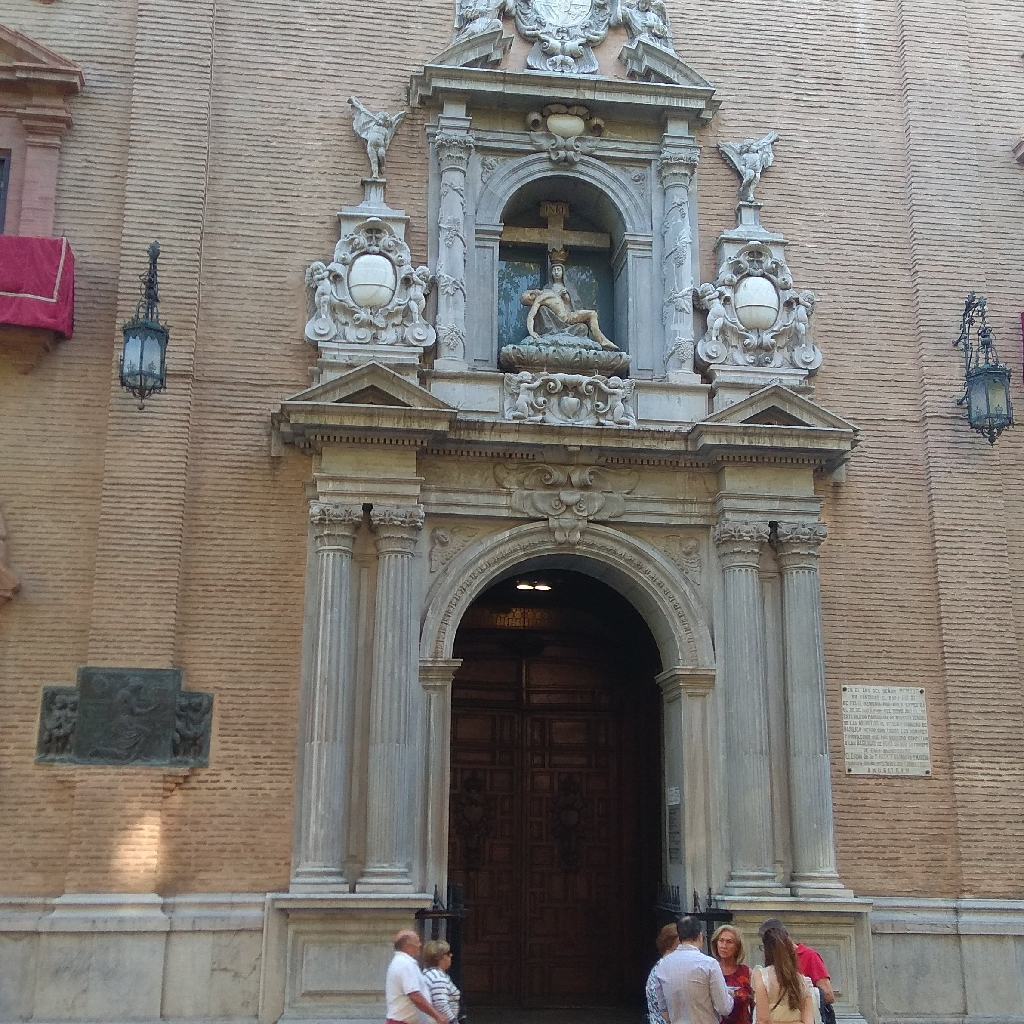arco-medio-punto: (444, 541, 698, 718), (489, 167, 637, 269)
fronton: (279, 359, 460, 433), (693, 384, 861, 449)
fronton-partido: (420, 31, 720, 105)
